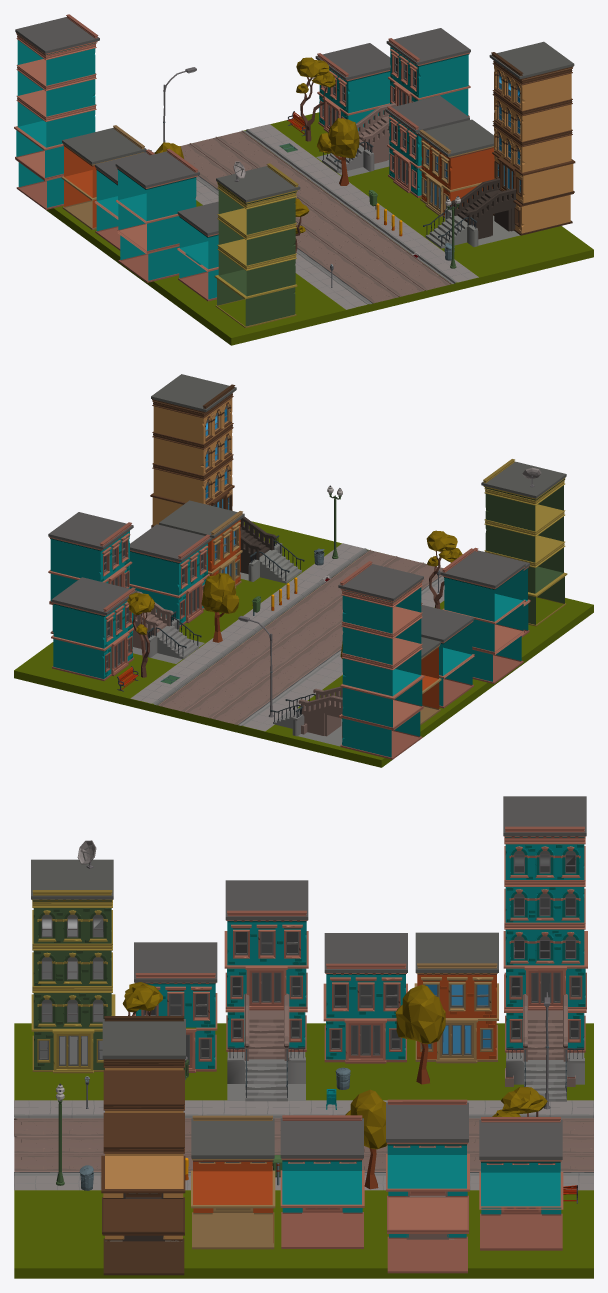
Rendered from House Area 1.fbx.
The picture shows the model from 3 angles, top to bottom: view 1: azimuth 30°, elevation 25°; view 2: azimuth 150°, elevation 25°; view 3: azimuth 270°, elevation 25°; orthographic projection. The views are drawn at different scales.
Visible parts, largest first — view 1: SM_Bld_Apartment_Roof_02.008, Plane.001, SM_Bld_Apartment_Roof_02.001, SM_Env_Path_Straight_01, SM_Bld_Apartment_03.001, SM_Bld_Apartment_01, SM_Bld_Apartment_01.001, SM_Env_Sidewalk_Straight_01.137, SM_Bld_Apartment_Roof_02.005, SM_Bld_Apartment_Roof_02.009, SM_Bld_Apartment_Roof_02.007, SM_Bld_Apartment_Roof_02.010 (+5 smaller); view 2: SM_Bld_Apartment_Roof_02.001, Plane.001, SM_Bld_Apartment_Roof_02.008, SM_Env_Path_Straight_01, SM_Bld_Apartment_03.001, SM_Bld_Apartment_01.001, SM_Bld_Apartment_01, SM_Bld_Apartment_Roof_02.009, SM_Env_Sidewalk_Straight_01.137, SM_Bld_Apartment_Roof_02.010, SM_Bld_Apartment_Roof_02.004, SM_Bld_Apartment_Roof_02.005 (+6 smaller); view 3: Plane.001, SM_Bld_Apartment_Roof_02.001, SM_Bld_Apartment_Roof_02.008, SM_Bld_Apartment_01, SM_Bld_Apartment_03.001, SM_Bld_Apartment_01.001, SM_Bld_Apartment_Roof_02.005, SM_Bld_Apartment_Roof_02.009, SM_Bld_Apartment_Roof_02.010, SM_Bld_Apartment_Roof_02.004, SM_Bld_Apartment_Roof_02.007, SM_Env_Path_Straight_01 (+7 smaller).
Boxes of the visible parts, x1,y1,x2,y2 form: SM_Bld_Apartment_Roof_02.008: (423,41,575,248); Plane.001: (46,112,593,345); SM_Bld_Apartment_Roof_02.001: (14,14,151,209); SM_Env_Path_Straight_01: (180,130,451,303); SM_Bld_Apartment_03.001: (214,163,300,327); SM_Bld_Apartment_01: (115,148,199,282); SM_Bld_Apartment_01.001: (316,28,470,176); SM_Env_Sidewalk_Straight_01.137: (243,124,478,283); SM_Bld_Apartment_Roof_02.005: (417,119,494,217); SM_Bld_Apartment_Roof_02.009: (315,43,390,132); SM_Bld_Apartment_Roof_02.007: (61,125,146,229); SM_Bld_Apartment_Roof_02.010: (385,95,469,197); SM_Bld_Apartment_Roof_02.001: (270,561,424,759); Plane.001: (14,521,593,767); SM_Bld_Apartment_Roof_02.008: (150,374,304,583); SM_Env_Path_Straight_01: (158,549,443,724); SM_Bld_Apartment_03.001: (481,459,567,626); SM_Bld_Apartment_01.001: (48,512,204,663); SM_Bld_Apartment_01: (440,548,525,683); SM_Bld_Apartment_Roof_02.009: (51,577,137,680); SM_Env_Sidewalk_Straight_01.137: (130,485,369,705); SM_Bld_Apartment_Roof_02.010: (129,524,211,627); SM_Bld_Apartment_Roof_02.004: (421,602,474,708); SM_Bld_Apartment_Roof_02.005: (159,500,244,588); Plane.001: (14,1023,593,1278); SM_Bld_Apartment_Roof_02.001: (503,796,587,1101); SM_Bld_Apartment_Roof_02.008: (101,1016,185,1275); SM_Bld_Apartment_01: (224,880,308,1101); SM_Bld_Apartment_03.001: (31,859,115,1073); SM_Bld_Apartment_01.001: (386,1099,469,1273); SM_Bld_Apartment_Roof_02.005: (191,1115,275,1249); SM_Bld_Apartment_Roof_02.009: (479,1117,563,1250); SM_Bld_Apartment_Roof_02.010: (280,1115,364,1248); SM_Bld_Apartment_Roof_02.004: (323,933,407,1063); SM_Bld_Apartment_Roof_02.007: (414,932,498,1063); SM_Env_Path_Straight_01: (14,1118,593,1171).
Size of what is drawn, in the model's own units: 10628 by 4469 by 10006.
